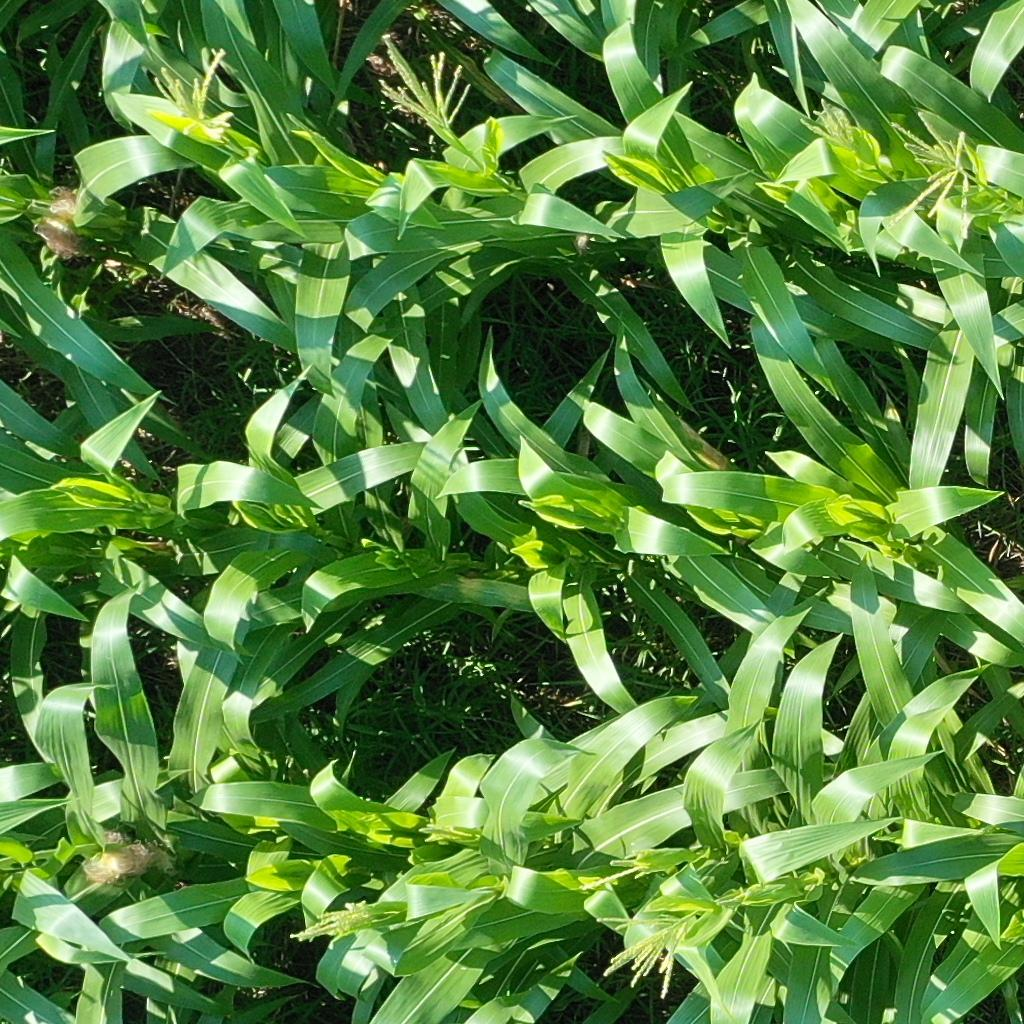Tassel: (370, 35, 475, 145), (887, 117, 981, 233), (589, 906, 704, 1000), (141, 44, 238, 143), (287, 898, 385, 950), (575, 840, 651, 891), (800, 92, 860, 149), (416, 811, 466, 848)
